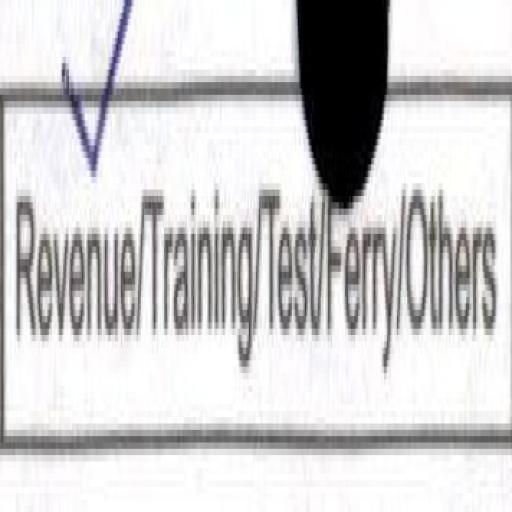check: (2, 15, 139, 429)
